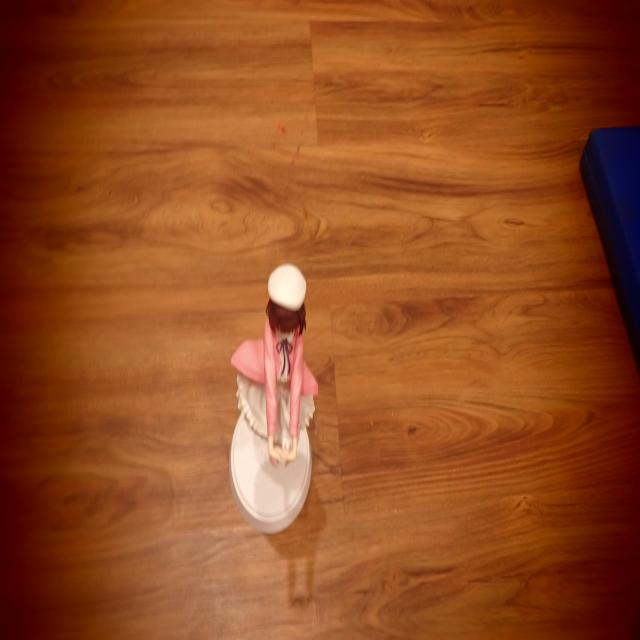My-pink-anime-figure: (232, 265, 317, 464)
